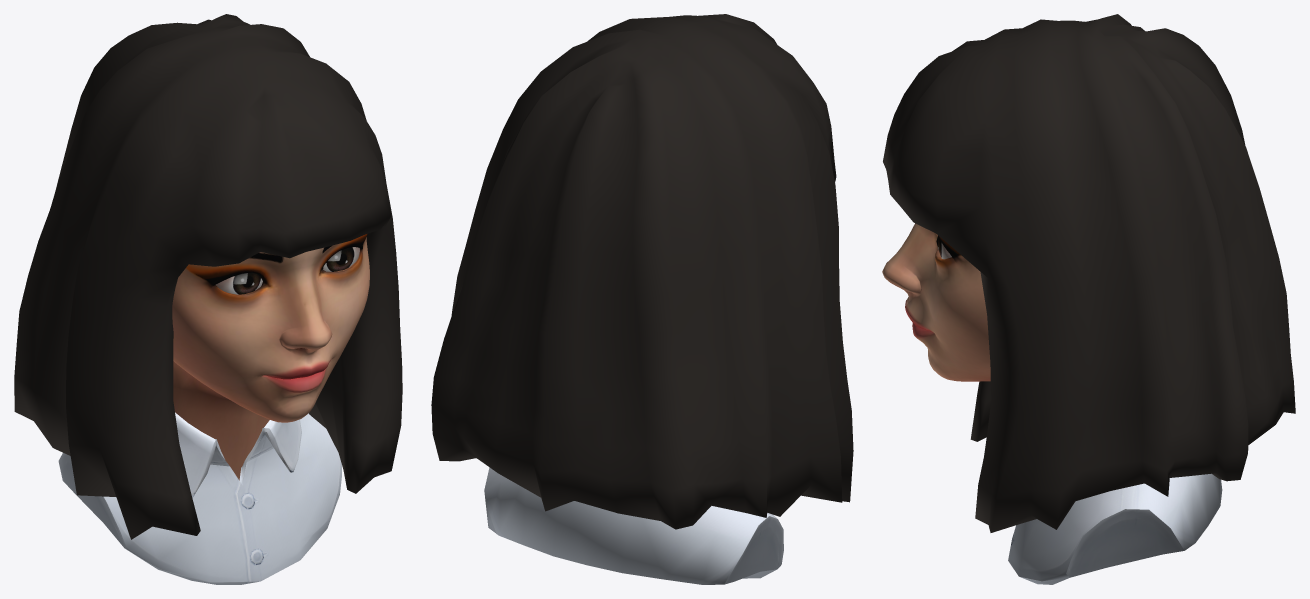
The model's file is avatar.obj.
3 views of the same model, side by side, from view 1: azimuth 30°, elevation 25°; view 2: azimuth 150°, elevation 25°; view 3: azimuth 270°, elevation 25° (orthographic). The views are drawn at different scales.
Visible parts, largest first — view 1: Wolf3D_Avatar; view 2: Wolf3D_Avatar; view 3: Wolf3D_Avatar.
Part boxes in pixels (<box>): Wolf3D_Avatar: <box>14,14,402,584</box>; Wolf3D_Avatar: <box>431,14,853,584</box>; Wolf3D_Avatar: <box>882,14,1295,584</box>.
Size of the model in its own units: 0.2341 by 0.366 by 0.2543.
